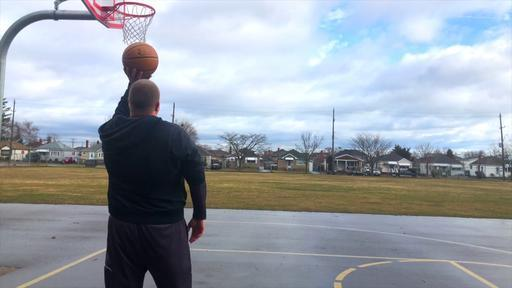ball: (122, 43, 158, 74)
human: (98, 70, 206, 288)
rim: (100, 2, 155, 42)
